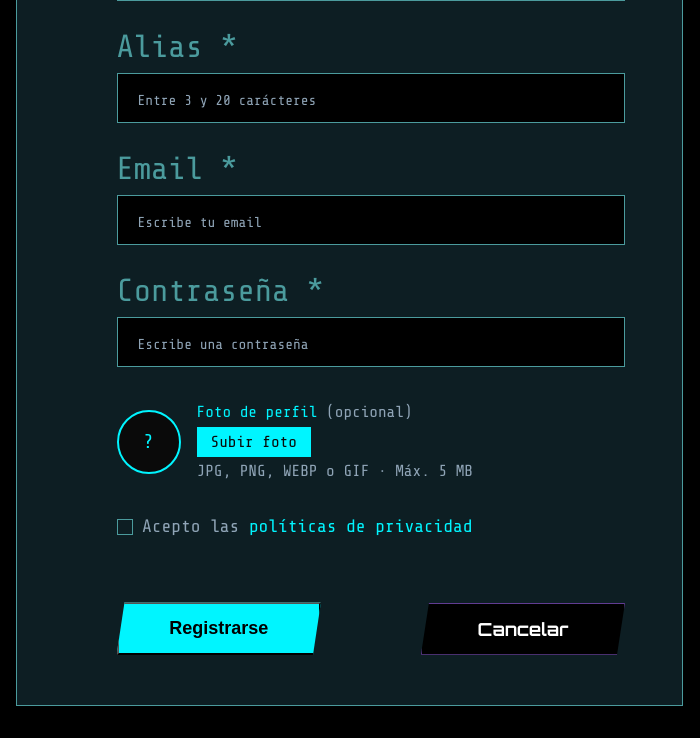
RegisterForm — Cobertura completa › muestra error de email obligatorio al enviar vacío
(page scrolled)
What coordinates should you click on to do the following:
click the button "Registrarse"
I would click on:
 (219, 629)
Its box is [116, 602, 321, 655].
(page scrolled)
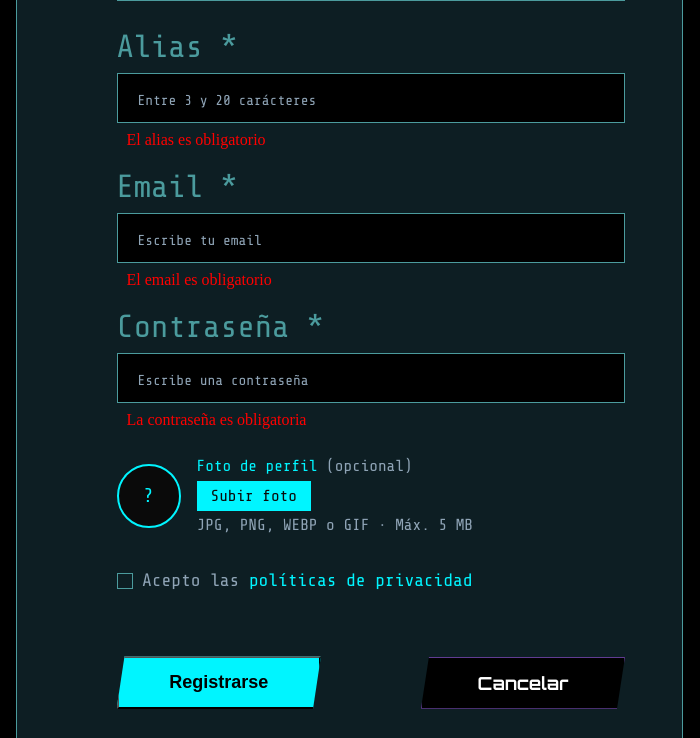
Expected: the text "El email es obligatorio" is shown, [126, 271, 272, 288]
